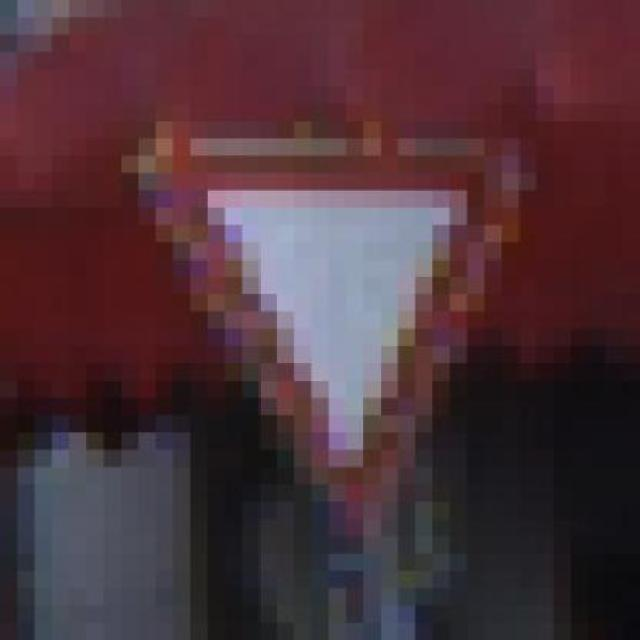Give Way: (85, 85, 587, 570)
